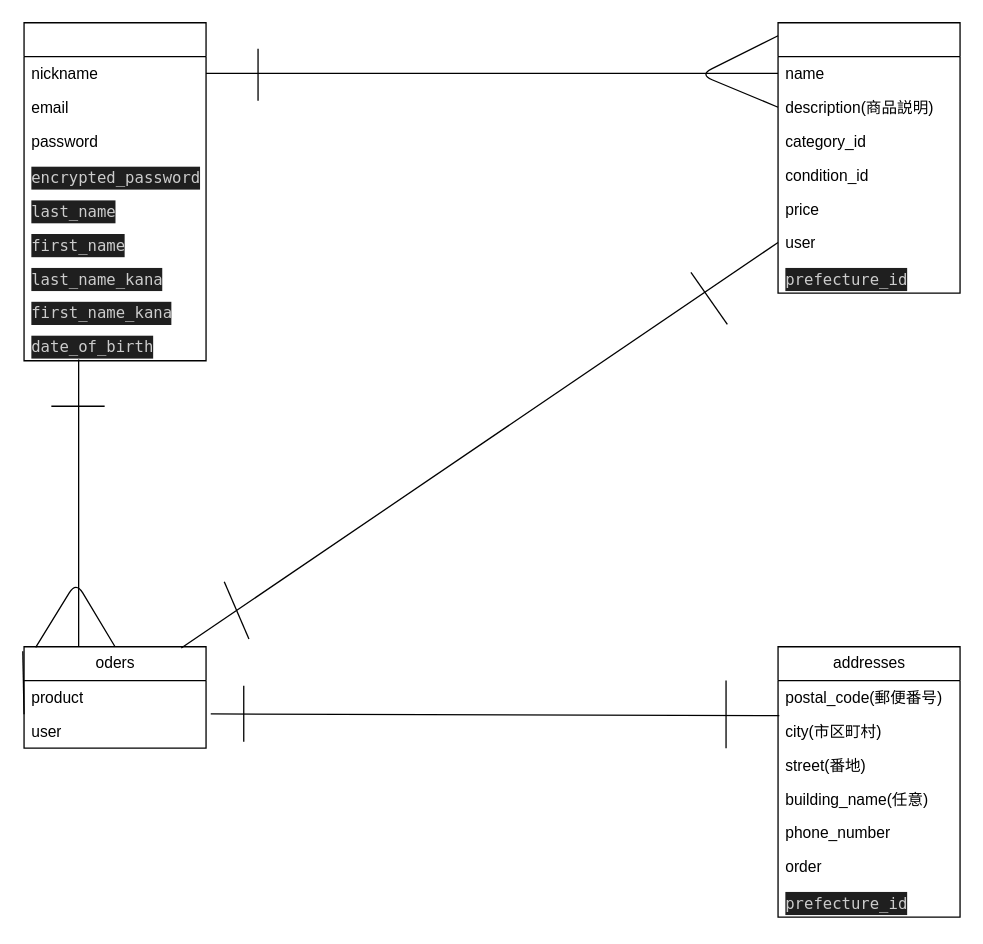
The diagram is 983 pixels wide and 944 high, and some of its shapes have lost their labels. The box of each missing label's shape, as (x1, y1, x2, y2) in pixels:
products: (777, 21, 960, 293)
users: (23, 21, 206, 361)
